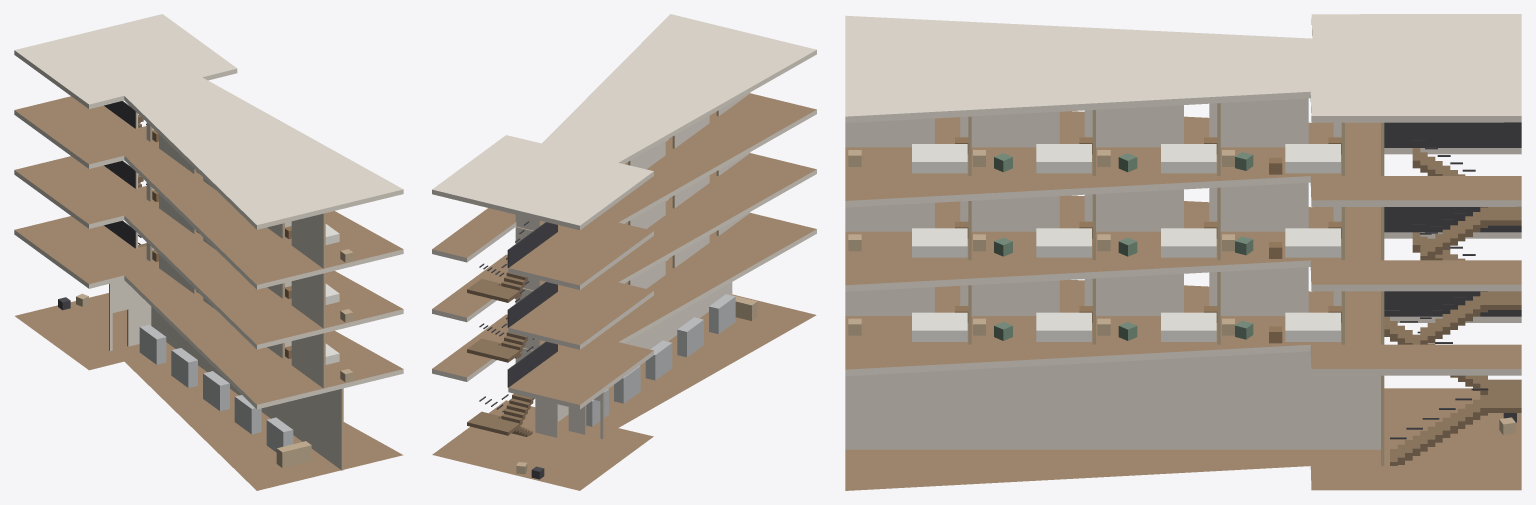
Rendered from interior.glb.
3 views of the same model, side by side, from view 1: azimuth 30°, elevation 25°; view 2: azimuth 150°, elevation 25°; view 3: azimuth 270°, elevation 25° (orthographic). The views are drawn at different scales.
Parts seen in each view (by area): view 1: slabs, partitions, coarse-s0, stair, coarse-s2, coarse-s1, coarse-s3; view 2: slabs, partitions, stair, coarse-s0; view 3: slabs, partitions, stair, coarse-s2, coarse-s3, coarse-s1.
Part boxes in pixels (box(x1,y1,x2,y2)): slabs: box(14, 14, 403, 490); partitions: box(109, 112, 343, 470); coarse-s0: box(58, 293, 311, 467); stair: box(104, 101, 146, 248); coarse-s2: box(152, 190, 353, 322); coarse-s1: box(152, 250, 353, 382); coarse-s3: box(152, 130, 353, 262); slabs: box(432, 14, 816, 490); partitions: box(515, 92, 750, 438); stair: box(467, 221, 557, 436); coarse-s0: box(516, 294, 757, 479); slabs: box(845, 14, 1521, 490); partitions: box(845, 98, 1384, 465); stair: box(1384, 122, 1521, 465); coarse-s2: box(848, 221, 1341, 258); coarse-s3: box(848, 137, 1341, 174); coarse-s1: box(848, 306, 1341, 343).
Bounding box in the file's own units: 8.7 × 14.82 × 24.23.
